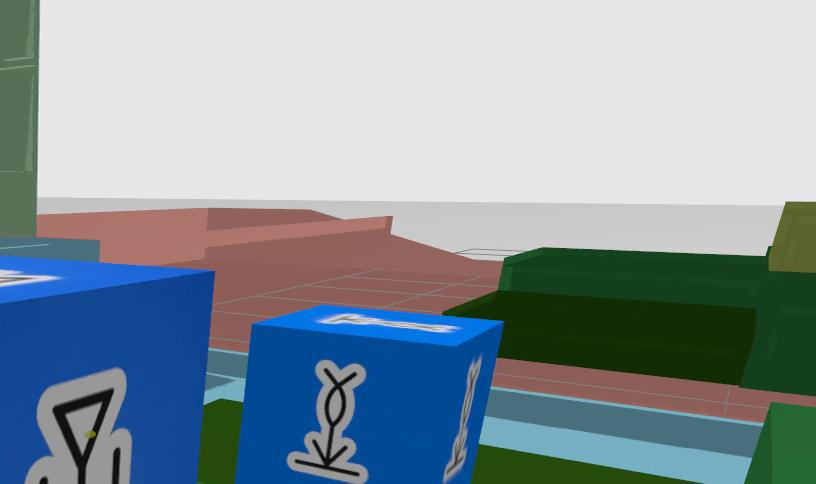KFS_REAL: (237, 305, 506, 483), (26, 370, 129, 483), (286, 360, 367, 483), (443, 356, 482, 483), (315, 312, 460, 333), (284, 286, 404, 308), (390, 294, 470, 313), (0, 269, 59, 286), (402, 355, 432, 376), (404, 359, 405, 364)
